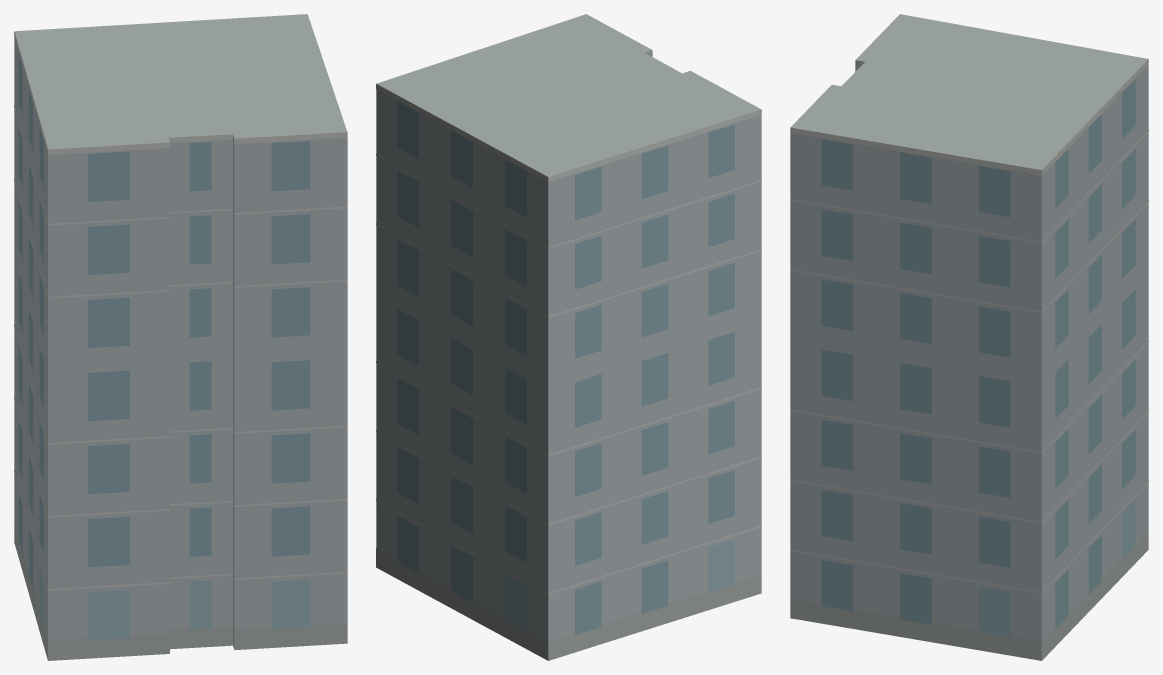
File: survey-upis-32940591.glb
The picture shows the model from 3 angles, left to right: view 1: azimuth 30°, elevation 25°; view 2: azimuth 150°, elevation 25°; view 3: azimuth 270°, elevation 25°; orthographic projection. The views are drawn at different scales.
Visible parts, largest first — view 1: survey-upis-32940591.tmp; view 2: survey-upis-32940591.tmp; view 3: survey-upis-32940591.tmp.
Part boxes in pixels (x1,y1,x2,y2): survey-upis-32940591.tmp: [14, 14, 347, 660]; survey-upis-32940591.tmp: [376, 14, 761, 660]; survey-upis-32940591.tmp: [790, 14, 1148, 660].
Size of the model in its own units: 15.31 by 22.4 by 14.84.
